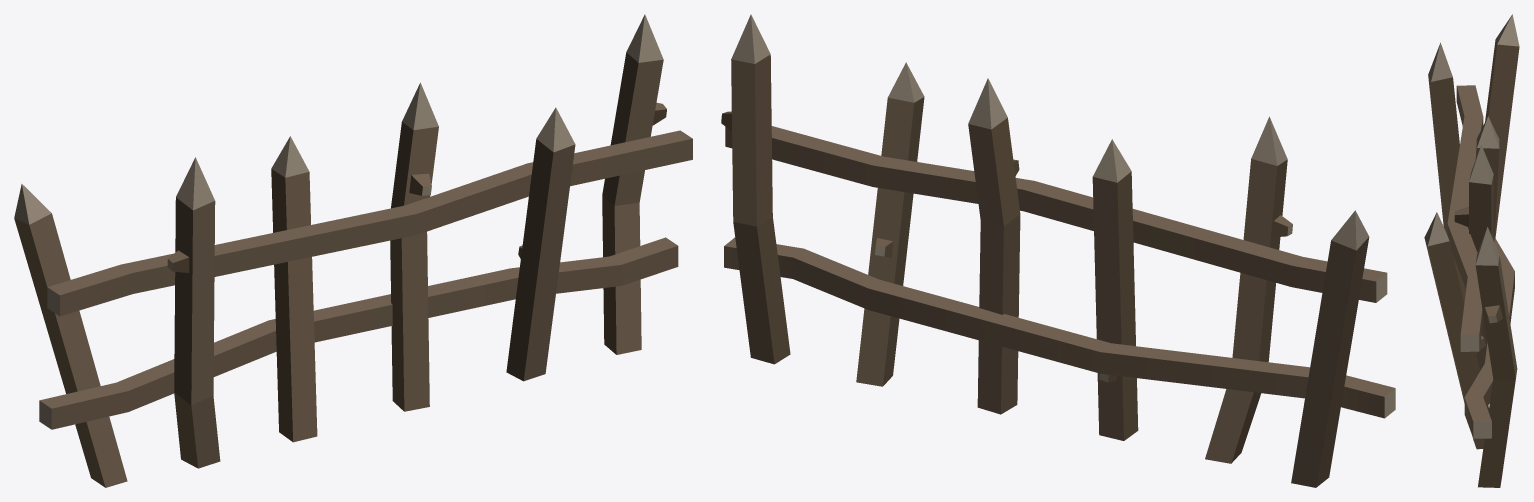
Rendered from Goblin_Fence.gltf.
3 renders of one model, left to right at view 1: azimuth 30°, elevation 25°; view 2: azimuth 150°, elevation 25°; view 3: azimuth 270°, elevation 25°, orthographic. The views are drawn at different scales.
Visible parts, largest first — view 1: SF_Prop_Goblin_Fence_01; view 2: SF_Prop_Goblin_Fence_01; view 3: SF_Prop_Goblin_Fence_01.
Part boxes in pixels (x1,y1,x2,y2): SF_Prop_Goblin_Fence_01: (14,14,692,487); SF_Prop_Goblin_Fence_01: (721,14,1395,487); SF_Prop_Goblin_Fence_01: (1424,14,1519,487).
Bounding box in the file's own units: 0.0446 × 0.0218 × 0.0071.
1 material, 1 textured.
